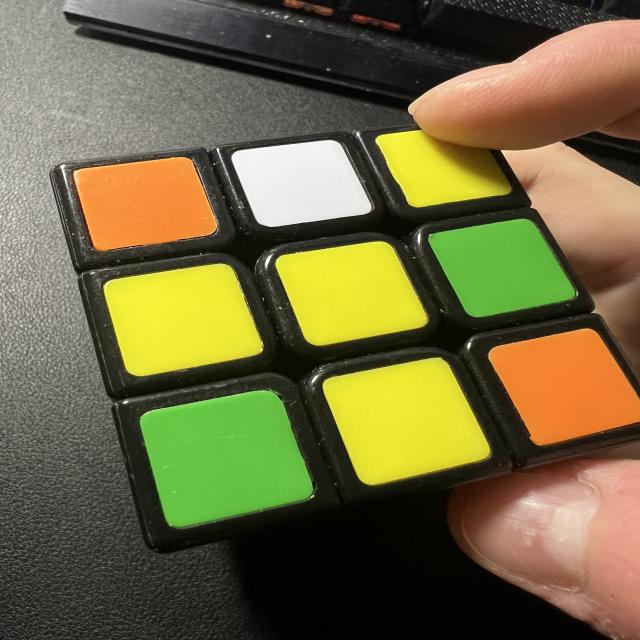center: (274, 232, 429, 352)
green: (137, 379, 315, 533), (427, 209, 577, 325)
orange: (73, 152, 219, 254)
white: (230, 133, 372, 232)
yellow: (320, 345, 493, 493), (102, 255, 265, 382), (374, 117, 511, 213)
